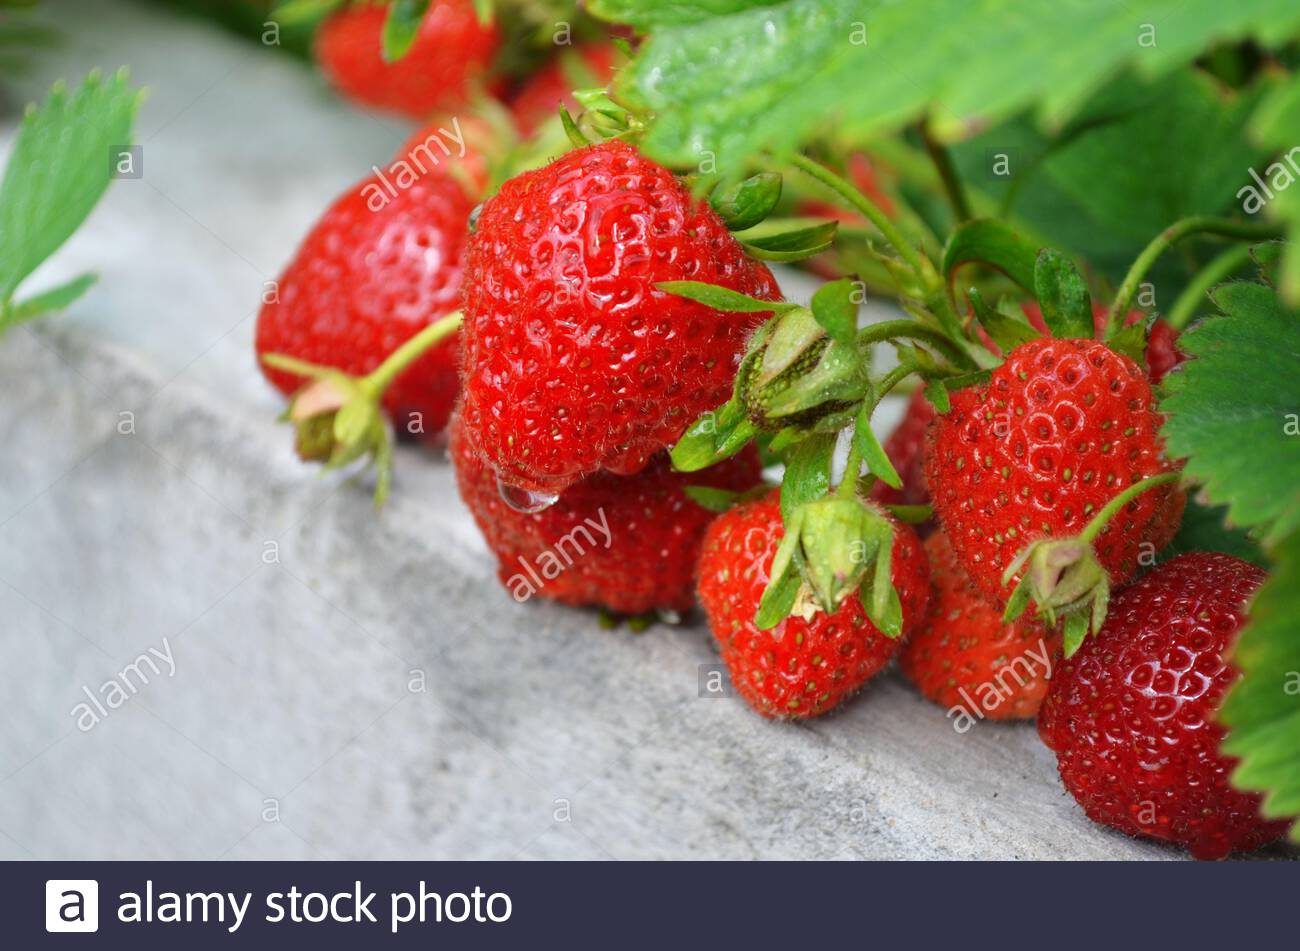ripe: (458, 131, 785, 482), (254, 110, 550, 461), (909, 320, 1205, 619), (1036, 528, 1288, 852), (435, 391, 731, 631), (702, 462, 945, 731), (902, 498, 1117, 739), (310, 3, 511, 114)
